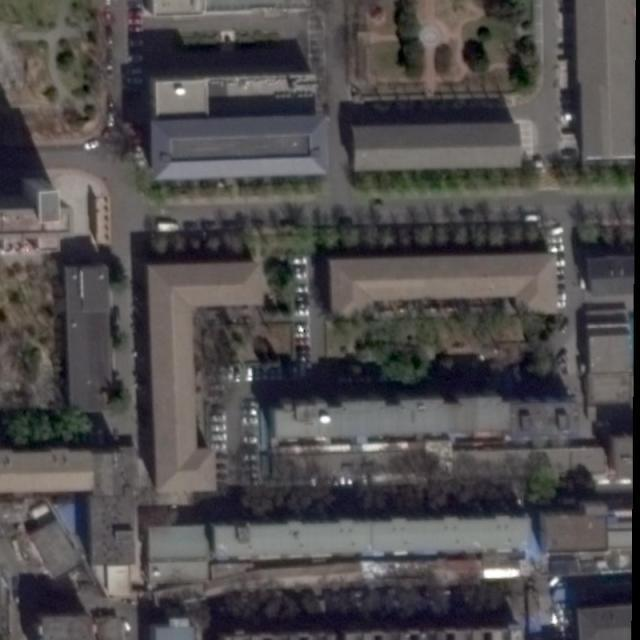vehicle: (290, 255, 310, 268), (548, 225, 565, 238), (83, 139, 100, 152), (291, 284, 311, 294), (209, 422, 227, 433), (290, 270, 308, 281), (126, 66, 143, 77), (548, 244, 566, 254), (209, 433, 229, 442), (242, 398, 262, 407), (126, 39, 145, 48), (293, 321, 312, 330), (210, 412, 227, 422), (242, 434, 259, 444), (293, 337, 310, 347), (242, 462, 259, 472), (209, 442, 227, 451), (242, 406, 260, 415), (242, 417, 260, 426), (295, 346, 311, 356), (106, 112, 116, 128), (103, 13, 114, 27), (126, 17, 145, 25), (546, 237, 562, 246), (293, 309, 309, 318), (126, 26, 144, 34), (561, 318, 570, 334), (128, 54, 144, 62), (127, 9, 143, 17), (234, 366, 242, 382), (294, 331, 310, 339), (294, 302, 310, 310), (246, 367, 254, 382), (294, 294, 308, 302), (555, 258, 566, 268), (103, 1, 114, 10), (242, 454, 260, 459)
